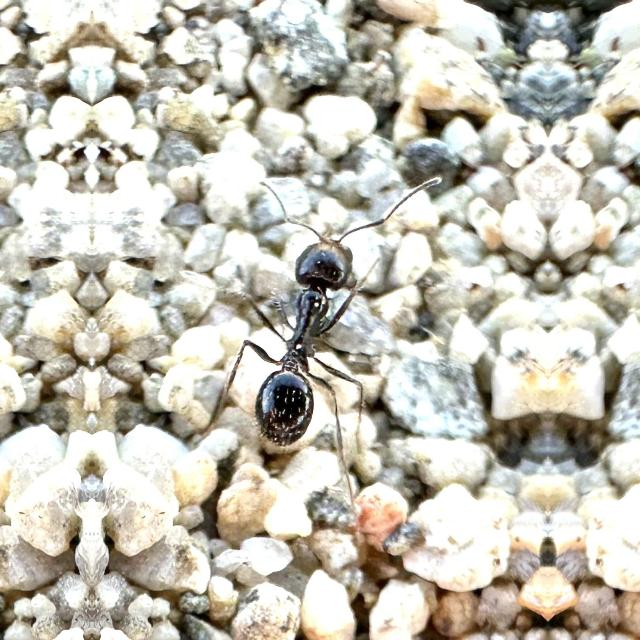Messor: (230, 183, 394, 463)
